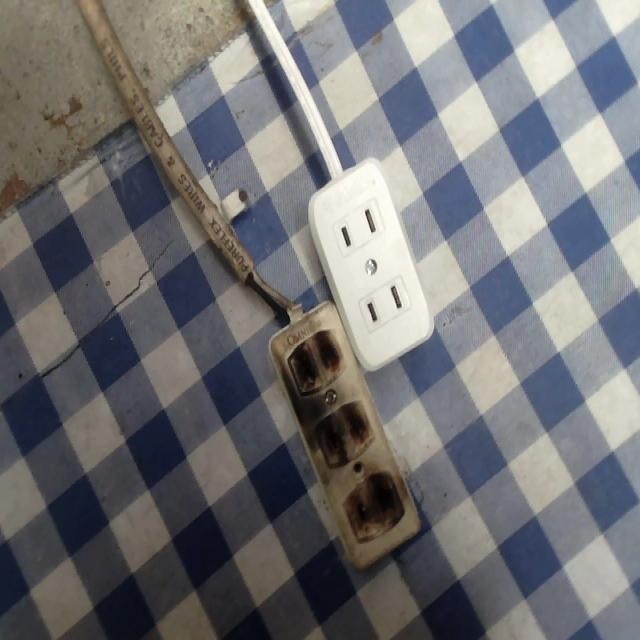-: (310, 399, 374, 468), (343, 472, 401, 544), (286, 328, 347, 388)
